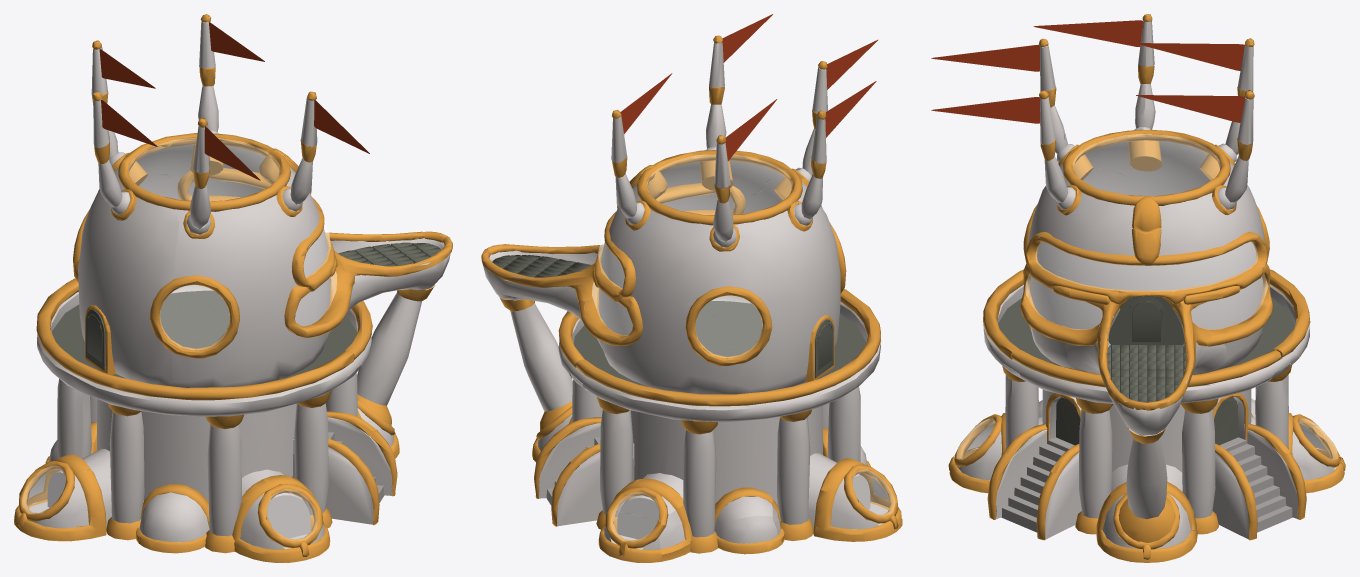
3 renders of one model, left to right at view 1: azimuth 30°, elevation 25°; view 2: azimuth 150°, elevation 25°; view 3: azimuth 270°, elevation 25°, orthographic. The views are drawn at different scales.
Parts seen in each view (by area): view 1: Window Side left; view 2: Window Side left; view 3: Window Side left.
Boxes of the visible parts, left/top/right/bottom form: Window Side left: left=14, top=14, right=452, bottom=562; Window Side left: left=481, top=14, right=902, bottom=562; Window Side left: left=931, top=14, right=1345, bottom=562.
Bounding box in the file's own units: 22.37 × 21.47 × 19.19.
